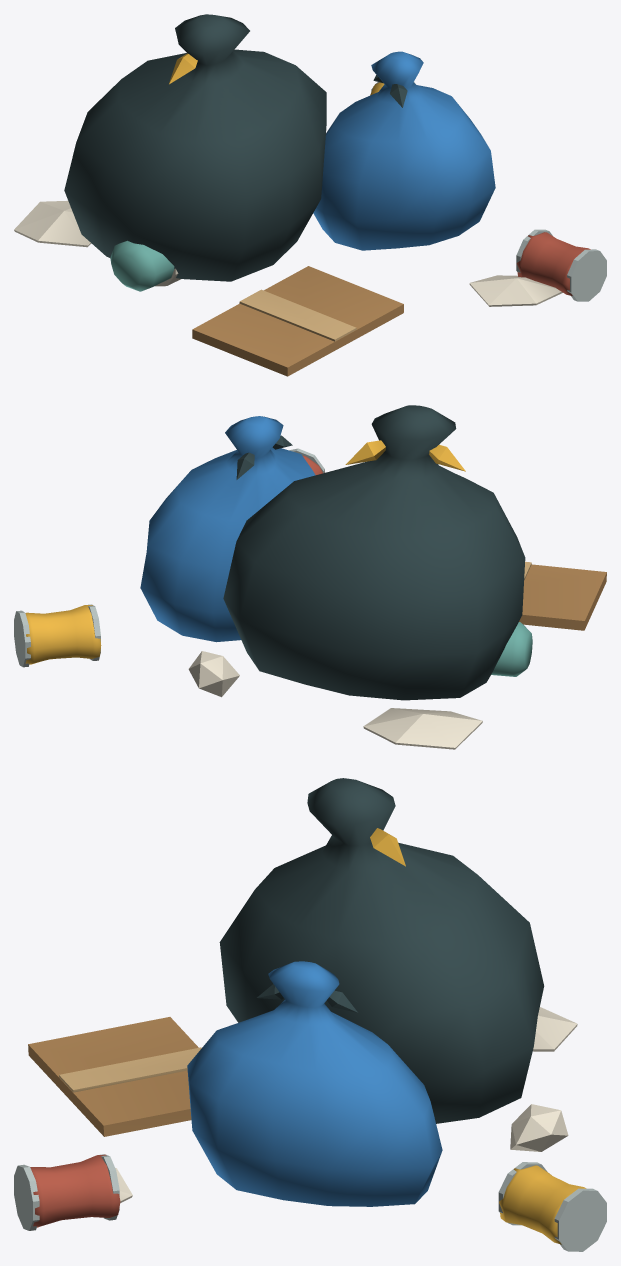
Rendered from waste-partial.glb.
3 views of the same model, one above another, from view 1: azimuth 30°, elevation 25°; view 2: azimuth 150°, elevation 25°; view 3: azimuth 270°, elevation 25° (orthographic). The views are drawn at different scales.
Parts seen in each view (by area): view 1: tied refuse sack, tied refuse sack.001, flattened carton, bottle label, crumpled drink can, discarded bottle, flattened carton tape, aluminium can end, sack tie; view 2: tied refuse sack, tied refuse sack.001, bottle label, flattened carton, sack tie, discarded bottle, aluminium can end; view 3: tied refuse sack, tied refuse sack.001, flattened carton, aluminium can end, crumpled drink can, sack tie, bottle label, flattened carton tape.
Boxes of the visible parts, x1=… form: tied refuse sack: x1=64, y1=14, x2=407, y2=281; tied refuse sack.001: x1=313, y1=51, x2=495, y2=250; flattened carton: x1=192, y1=266, x2=403, y2=376; bottle label: x1=14, y1=200, x2=562, y2=306; crumpled drink can: x1=516, y1=232, x2=590, y2=295; discarded bottle: x1=110, y1=240, x2=174, y2=291; flattened carton tape: x1=239, y1=289, x2=356, y2=341; aluminium can end: x1=371, y1=82, x2=606, y2=301; sack tie: x1=169, y1=53, x2=384, y2=95; tied refuse sack: x1=223, y1=405, x2=525, y2=700; tied refuse sack.001: x1=140, y1=416, x2=315, y2=642; bottle label: x1=188, y1=651, x2=482, y2=749; flattened carton: x1=519, y1=564, x2=606, y2=630; sack tie: x1=25, y1=440, x2=465, y2=664; discarded bottle: x1=491, y1=622, x2=532, y2=676; aluminium can end: x1=14, y1=448, x2=324, y2=667; tied refuse sack: x1=219, y1=778, x2=544, y2=1123; tied refuse sack.001: x1=187, y1=961, x2=442, y2=1206; flattened carton: x1=28, y1=1017, x2=198, y2=1136; aluminium can end: x1=14, y1=1154, x2=606, y2=1251; crumpled drink can: x1=30, y1=1154, x2=120, y2=1227; sack tie: x1=370, y1=828, x2=586, y2=1244; bottle label: x1=115, y1=1007, x2=577, y2=1202; flattened carton tape: x1=59, y1=1047, x2=201, y2=1092.
Size of the model in its own units: 0.8557 by 0.4888 by 0.861.
